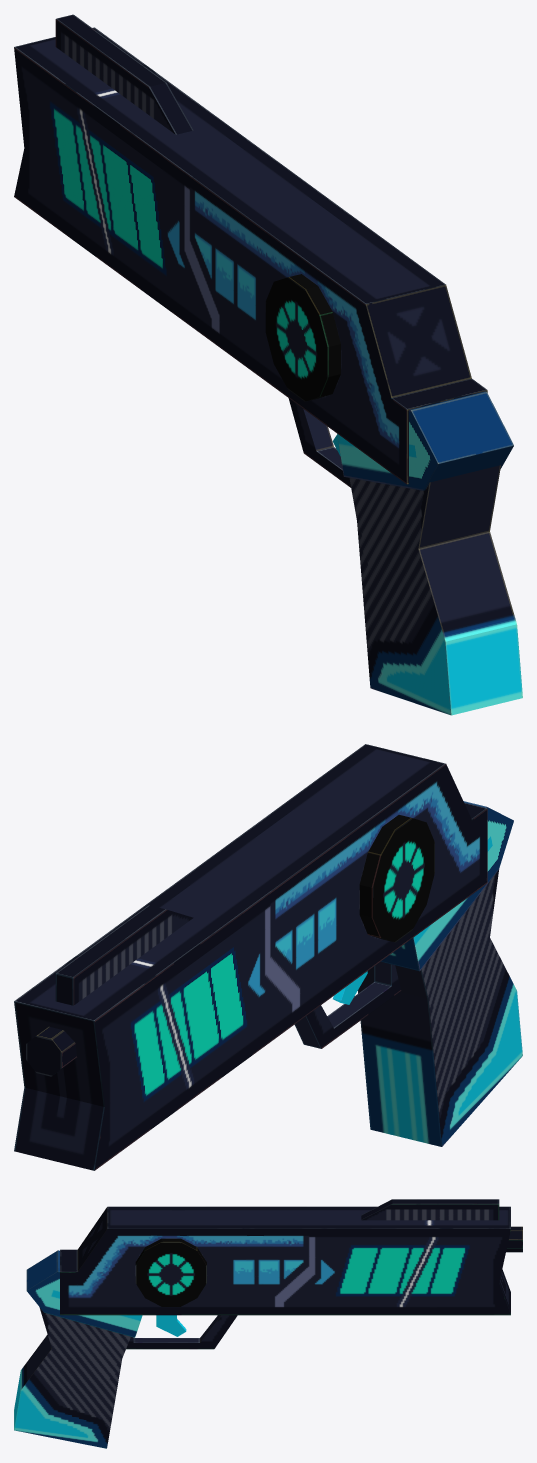
File: tazer.fbx
The picture shows the model from 3 angles, top to bottom: view 1: azimuth 30°, elevation 25°; view 2: azimuth 150°, elevation 25°; view 3: azimuth 270°, elevation 25°; orthographic projection. The views are drawn at different scales.
Parts seen in each view (by area): view 1: mass, handle, gaurd, chamber, aim, grip; view 2: mass, handle, chamber, aim, gaurd, grip, muzzle; view 3: mass, handle, chamber, aim, gaurd, grip, trigger, muzzle.
Boxes of the visible parts, x1,y1,x2,y2 form: mass: [14, 27, 487, 484]; handle: [349, 465, 522, 715]; gaurd: [337, 391, 513, 490]; chamber: [265, 274, 340, 401]; aim: [55, 14, 193, 134]; grip: [288, 398, 350, 487]; mass: [14, 744, 487, 1170]; handle: [357, 869, 522, 1146]; chamber: [359, 815, 434, 942]; aim: [55, 905, 193, 1005]; gaurd: [381, 801, 513, 971]; grip: [294, 961, 401, 1048]; muzzle: [26, 1026, 76, 1076]; mass: [60, 1206, 510, 1315]; handle: [14, 1307, 130, 1448]; chamber: [135, 1238, 206, 1306]; aim: [361, 1199, 499, 1220]; gaurd: [26, 1250, 142, 1337]; grip: [126, 1315, 237, 1349]; trigger: [156, 1315, 186, 1336]; muzzle: [506, 1226, 522, 1252].
Size of the model in its own units: 75 by 275 by 536.
Materials: 1 (1 with a texture image).
